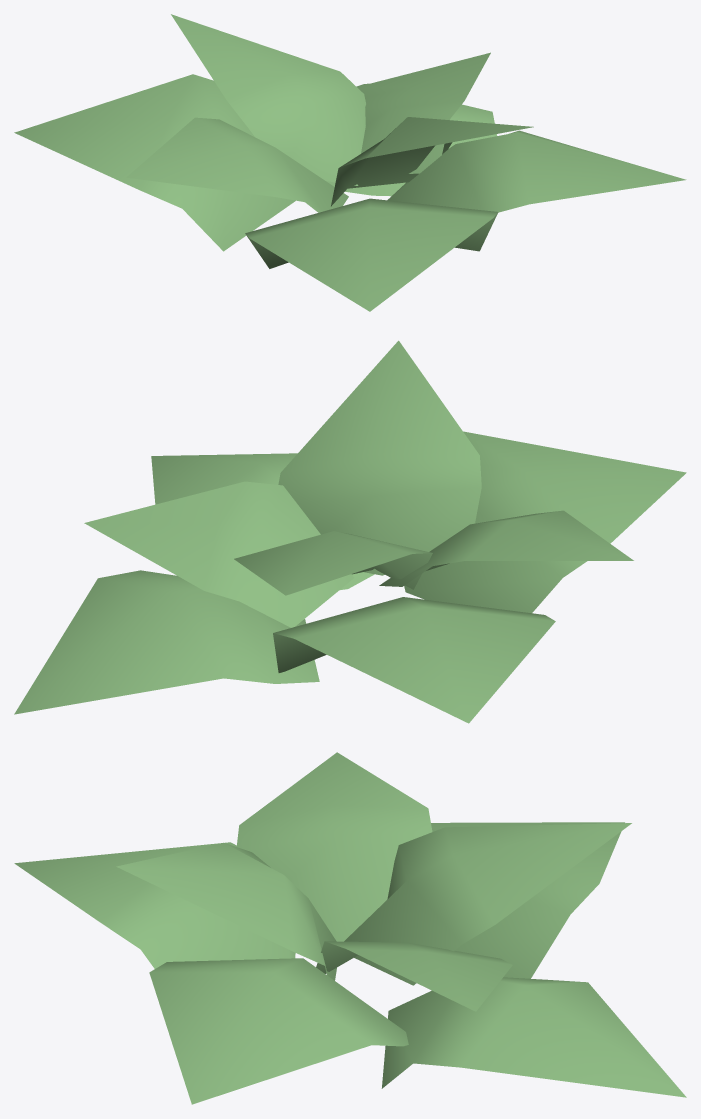
Rendered from Plant_02.fbx.
3 views of the same model, one above another, from view 1: azimuth 30°, elevation 25°; view 2: azimuth 150°, elevation 25°; view 3: azimuth 270°, elevation 25° (orthographic). The views are drawn at different scales.
Visible parts, largest first — view 1: plant_02; view 2: plant_02; view 3: plant_02.
Part boxes in pixels (x1,y1,x2,y2): plant_02: (14,14,686,311); plant_02: (14,340,686,723); plant_02: (14,752,686,1104).
Bounding box in the file's own units: 21.5 × 7.15 × 22.75.
